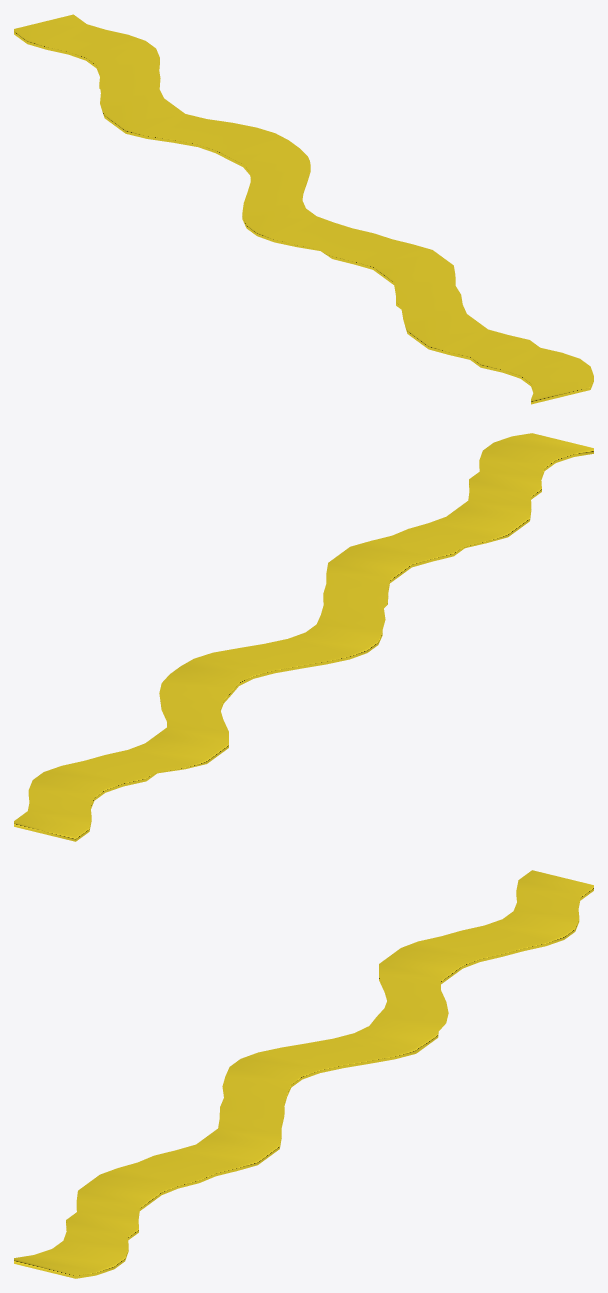
The model's file is yellowbrickroad.glb.
3 views of the same model, one above another, from view 1: azimuth 30°, elevation 25°; view 2: azimuth 150°, elevation 25°; view 3: azimuth 330°, elevation 25° (orthographic). The views are drawn at different scales.
Visible parts, largest first — view 1: Cube; view 2: Cube; view 3: Cube.
Boxes of the visible parts, x1=… form: Cube: x1=14, y1=14, x2=593, y2=404; Cube: x1=14, y1=433, x2=593, y2=841; Cube: x1=14, y1=870, x2=593, y2=1278.
Size of the model in its own units: 38.82 by 1.73 by 293.
